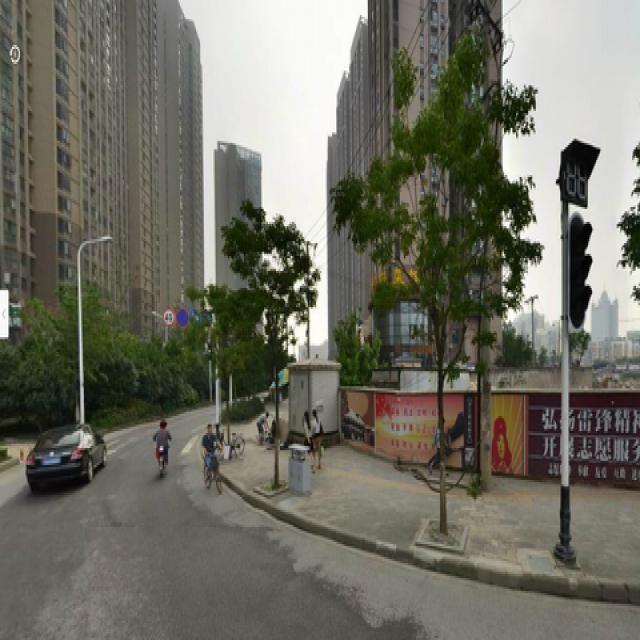koel: (365, 70, 512, 508)
